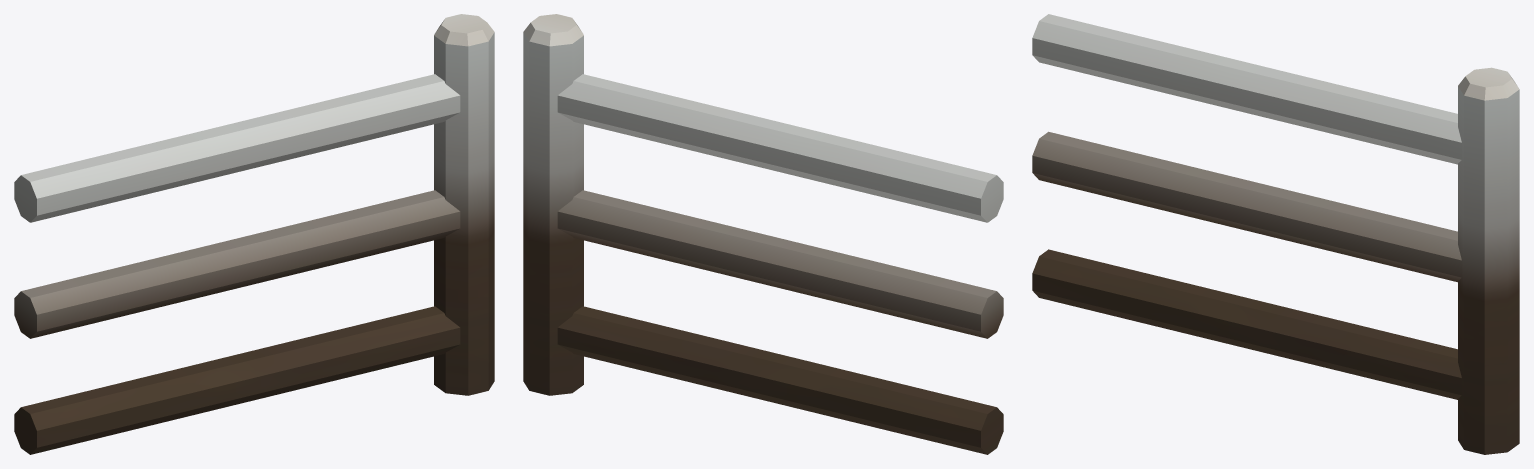
The model's file is Fence_Post_Snow.obj.
The picture shows the model from 3 angles, left to right: view 1: azimuth 30°, elevation 25°; view 2: azimuth 150°, elevation 25°; view 3: azimuth 330°, elevation 25°; orthographic projection.
Parts seen in each view (by area): view 1: Fence_Post_Snow; view 2: Fence_Post_Snow; view 3: Fence_Post_Snow.
Part boxes in pixels (bbox=[...]): Fence_Post_Snow: bbox=[14, 14, 494, 454]; Fence_Post_Snow: bbox=[523, 14, 1003, 454]; Fence_Post_Snow: bbox=[1032, 14, 1519, 454].
Size of the model in its own units: 1.49 by 1.11 by 0.1583.
